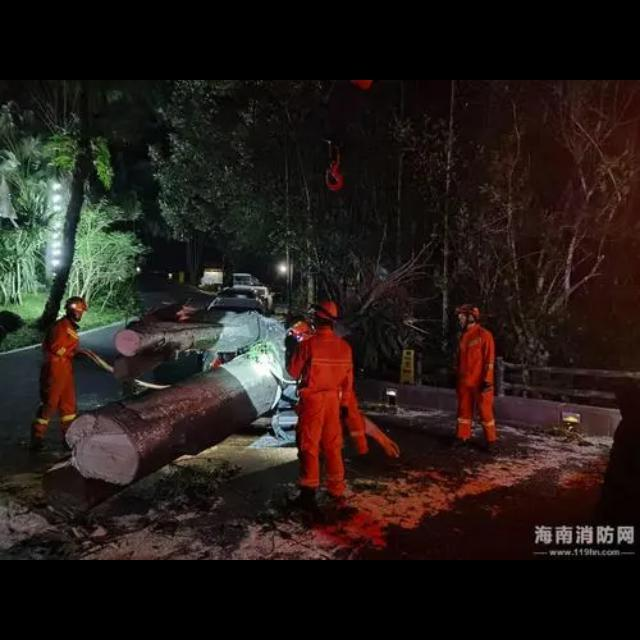fallen_tree: (66, 264, 416, 486)
